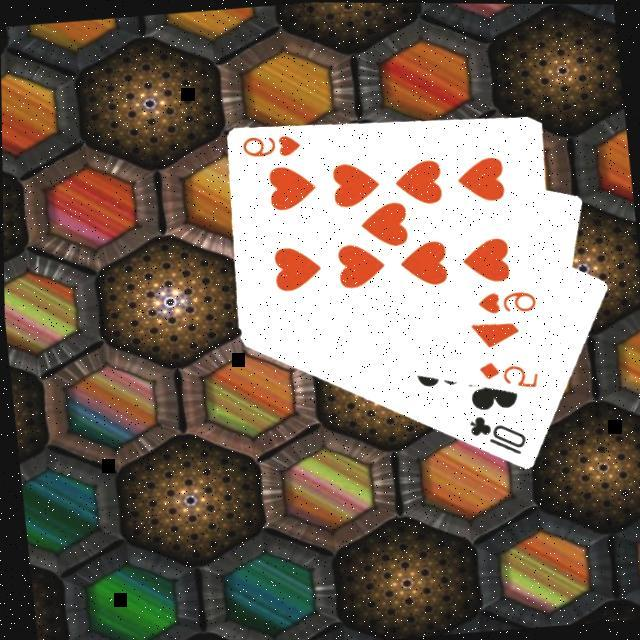10C: (464, 410, 531, 462)
5D: (475, 356, 542, 396)
9H: (473, 287, 541, 321), (238, 131, 304, 164)
